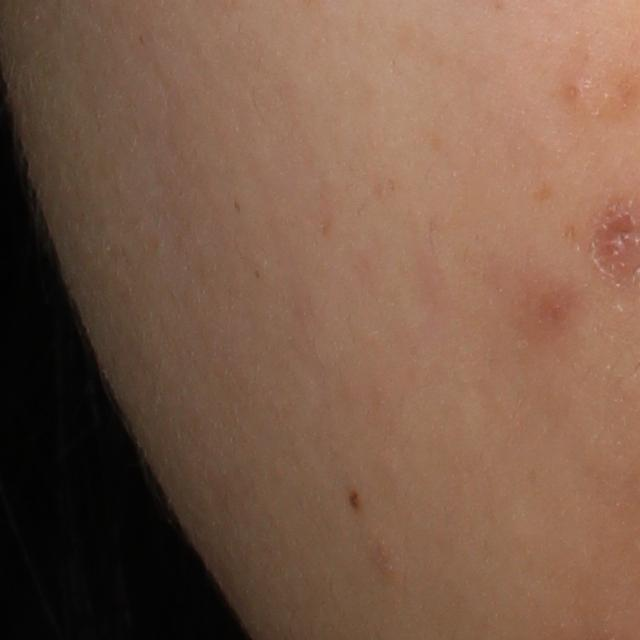nevus: (342, 484, 365, 512)
